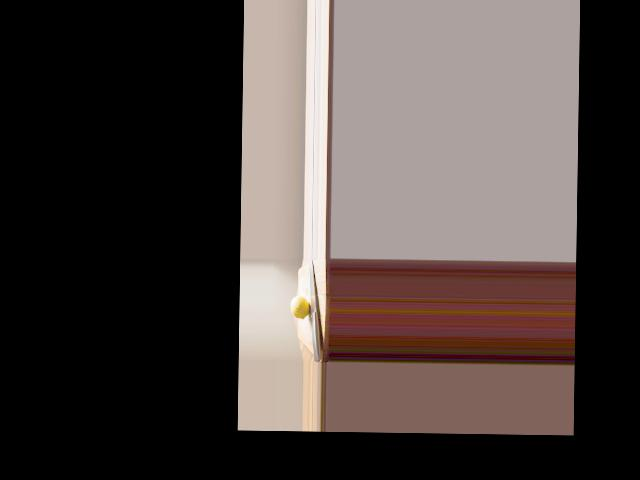lemon: (288, 295, 309, 321)
